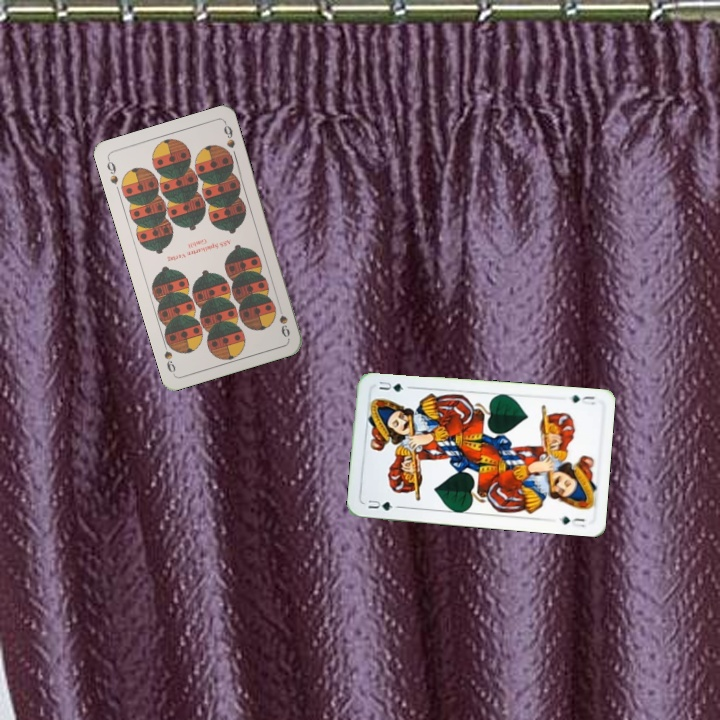GU: (364, 496, 395, 513), (568, 391, 598, 408)
S9: (274, 300, 292, 340), (103, 155, 121, 187)
